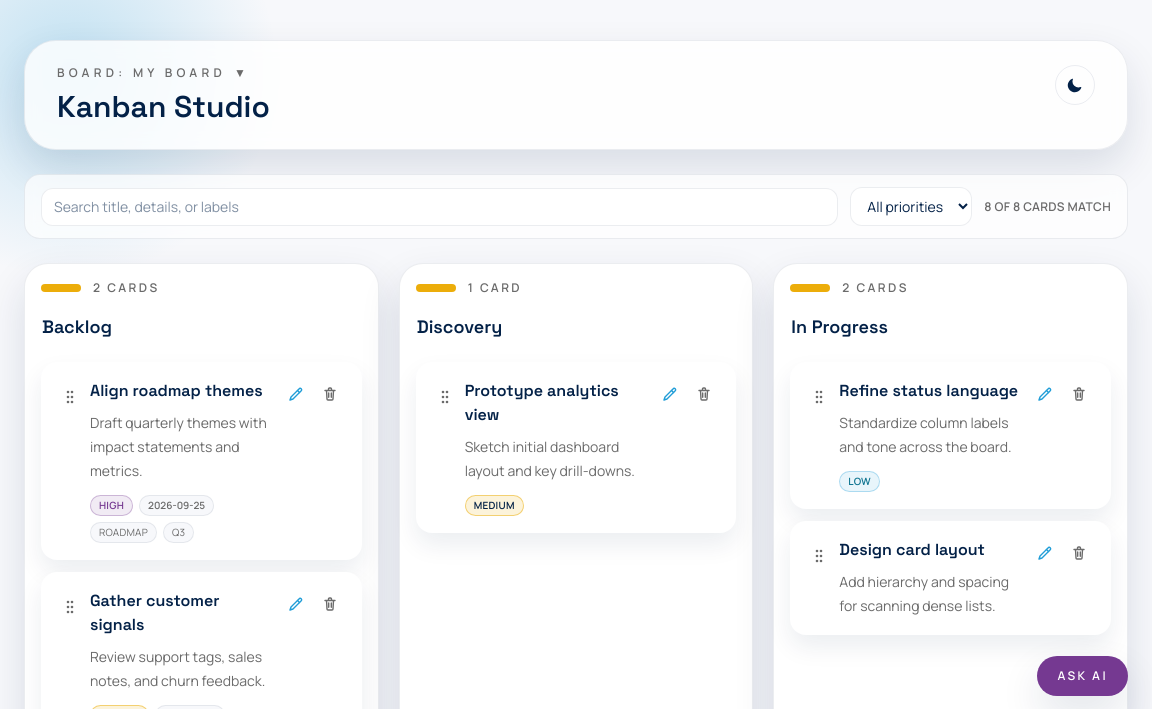
Scenario: KanbanBoard › saving › shows an error when a save fails
Click the button named "delete align roadmap themes" at (330, 394), box x1=315 y1=379 x2=345 y2=409
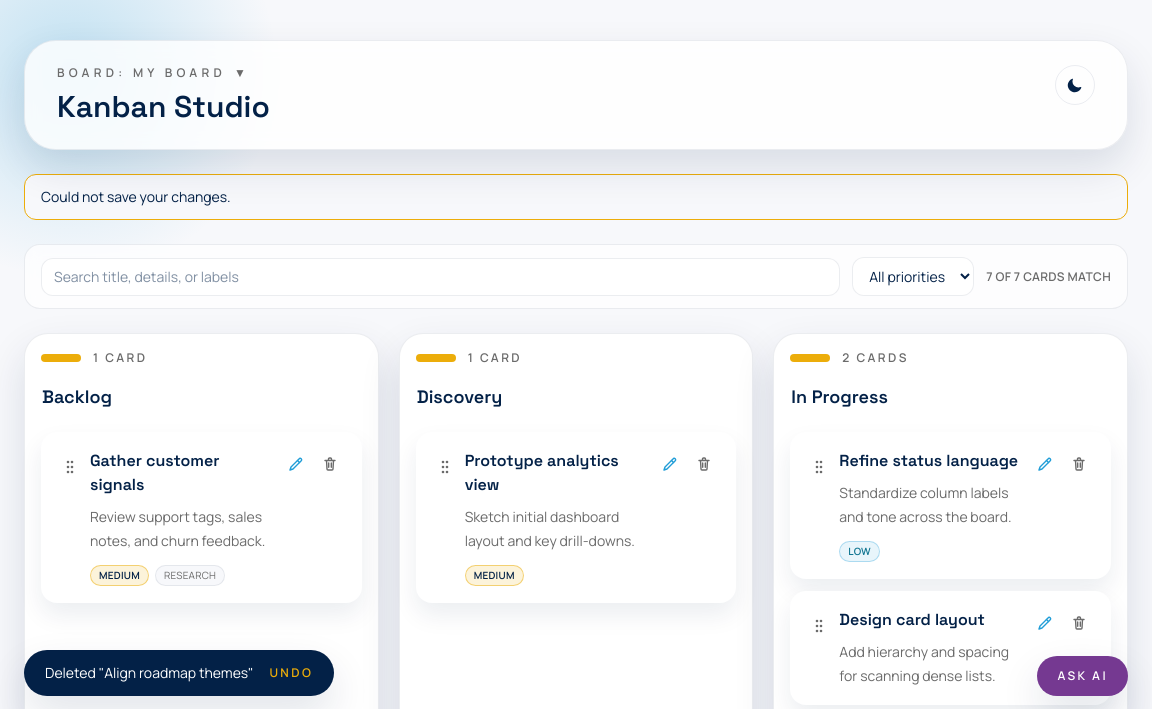
Check: the message with test id "board-error" shows "Could not save your changes", box x1=41 y1=187 x2=231 y2=206
